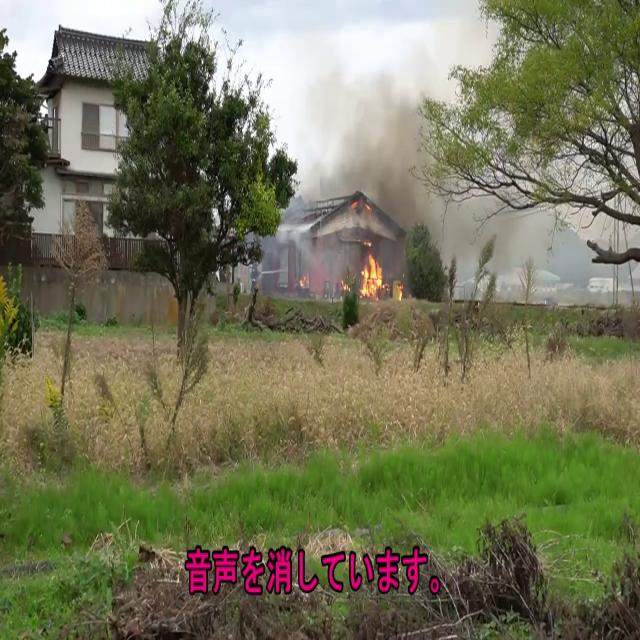Fire: (357, 243, 389, 301)
Smoke: (283, 31, 447, 235)
